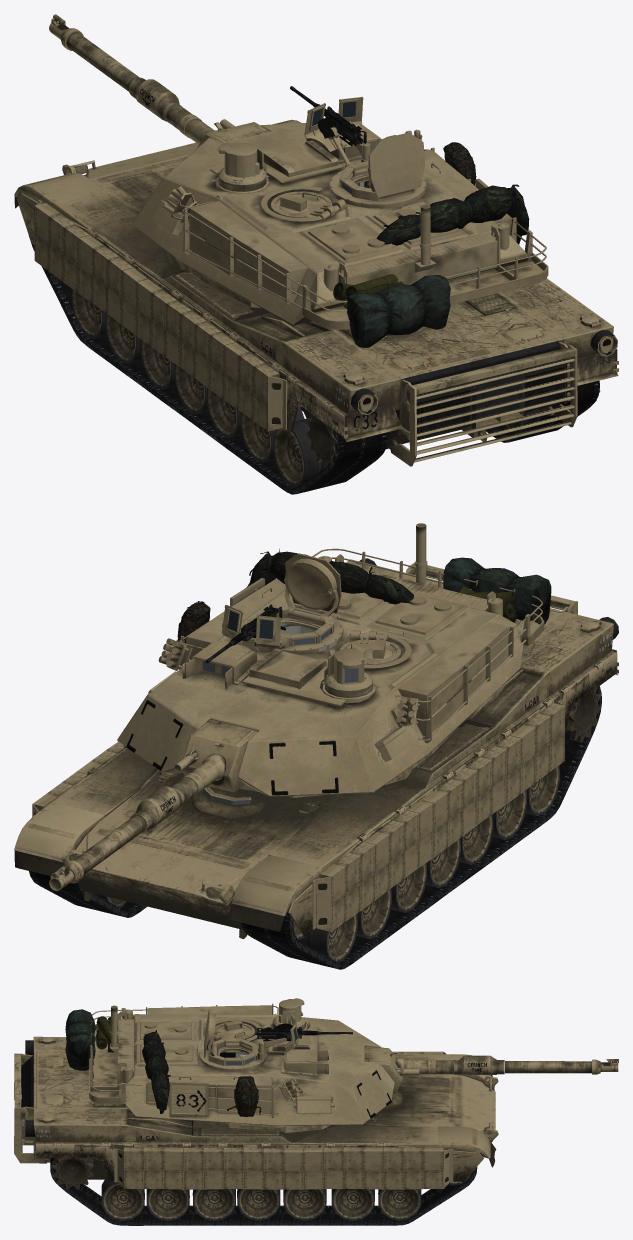
3 renders of one model, top to bottom at view 1: azimuth 30°, elevation 25°; view 2: azimuth 150°, elevation 25°; view 3: azimuth 270°, elevation 25°, orthographic. The views are drawn at different scales.
Parts seen in each view (by area): view 1: V_m1a1i__Body_1, V_m1a1i__Turret_2, V_m1a1i__Turret_3, V_m1a1i__Body_2, V_m1a1i__Gun_1, V_m1a1i__RwsGun_1; view 2: V_m1a1i__Body_1, V_m1a1i__Turret_2, V_m1a1i__Body_2, V_m1a1i__Gun_1, V_m1a1i__Turret_3, V_m1a1i__Turret_5, V_m1a1i__RwsGun_1; view 3: V_m1a1i__Body_1, V_m1a1i__Turret_2, V_m1a1i__Body_2, V_m1a1i__Turret_3, V_m1a1i__Gun_1, V_m1a1i__RwsGun_1, V_m1a1i__Turret_5.
Boxes of the visible parts, box(x1,y1,x2,y2) form: V_m1a1i__Body_1: box(14, 119, 618, 486); V_m1a1i__Turret_2: box(132, 96, 548, 329); V_m1a1i__Turret_3: box(333, 142, 529, 347); V_m1a1i__Body_2: box(28, 200, 599, 494); V_m1a1i__Gun_1: box(49, 14, 269, 148); V_m1a1i__RwsGun_1: box(290, 86, 366, 146); V_m1a1i__Body_1: box(14, 558, 618, 962); V_m1a1i__Turret_2: box(117, 523, 544, 796); V_m1a1i__Body_2: box(29, 686, 601, 969); V_m1a1i__Gun_1: box(49, 719, 257, 891); V_m1a1i__Turret_3: box(177, 548, 551, 643); V_m1a1i__Turret_5: box(126, 679, 338, 795); V_m1a1i__RwsGun_1: box(205, 604, 285, 663); V_m1a1i__Body_1: box(14, 1036, 498, 1221); V_m1a1i__Turret_2: box(89, 998, 394, 1125); V_m1a1i__Body_2: box(50, 1149, 477, 1225); V_m1a1i__Turret_3: box(65, 1009, 261, 1116); V_m1a1i__Gun_1: box(364, 1046, 618, 1093); V_m1a1i__RwsGun_1: box(255, 1023, 352, 1041); V_m1a1i__Turret_5: box(176, 1023, 391, 1118).
Size of the model in its own units: 11.06 by 9.45 by 28.35.
11 materials, 10 textured.
